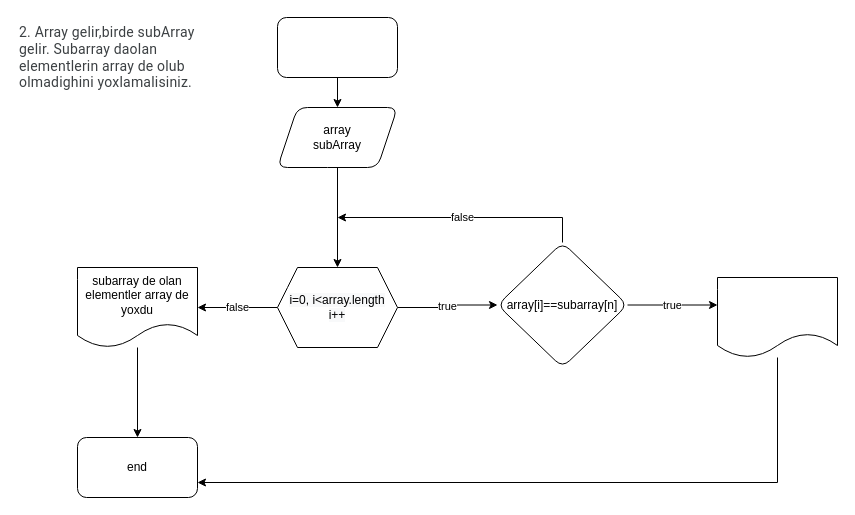
This 855x515 diagram has some shape labels left out. Each missing label, with the box of its shape:
start: (276, 16, 398, 78)
subarrayde olan elementler arrayde var: (716, 276, 838, 358)
